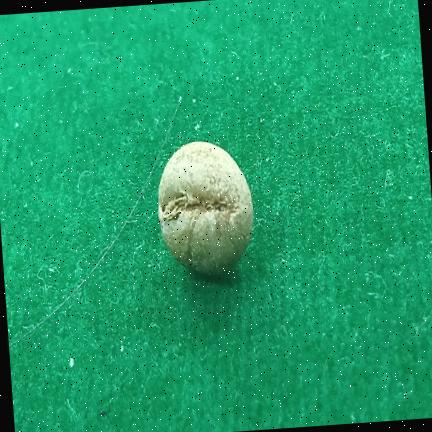cut: (158, 141, 253, 274)
